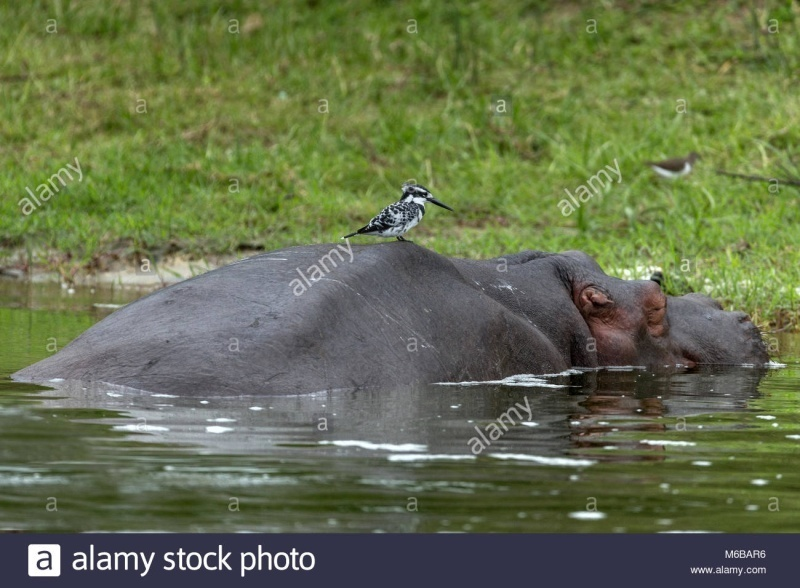hipopotamo: (6, 232, 779, 432)
